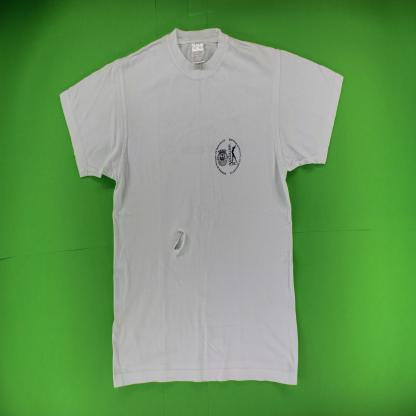hole: (173, 231, 185, 252)
